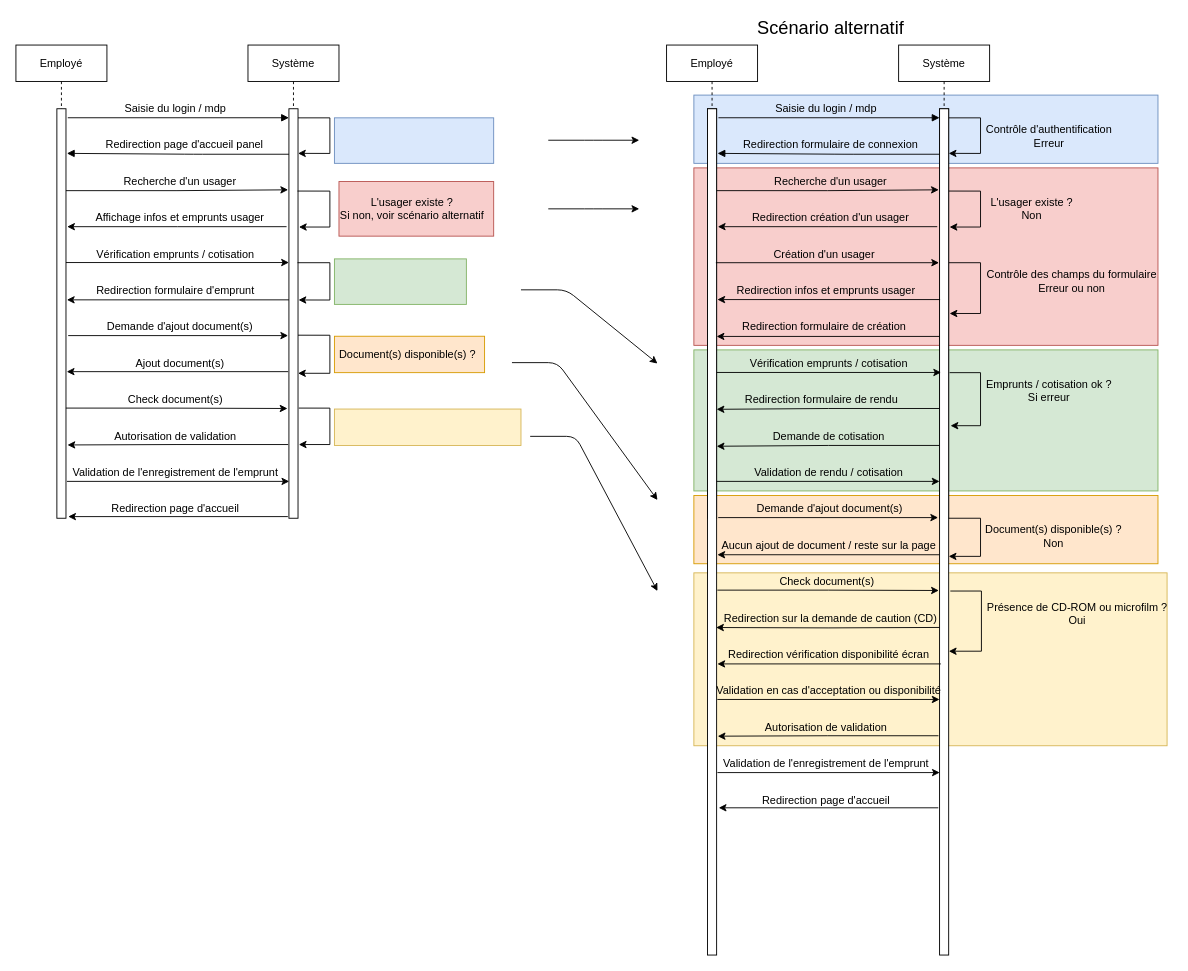
This 1188x971 diagram has some shape labels left out. Each missing label, with the centre of its shape:
Contrôle d'authentification Si erreur, voir scénario alternatif: (x=414, y=140)
Emprunts / cotisation ok ?: (x=400, y=281)
Présence de CD-ROM ou microfilm ?: (x=427, y=426)
